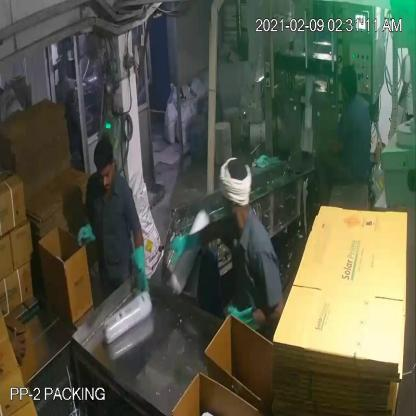glove: (220, 291, 269, 350), (162, 219, 215, 272), (124, 237, 154, 303), (69, 218, 101, 260)
